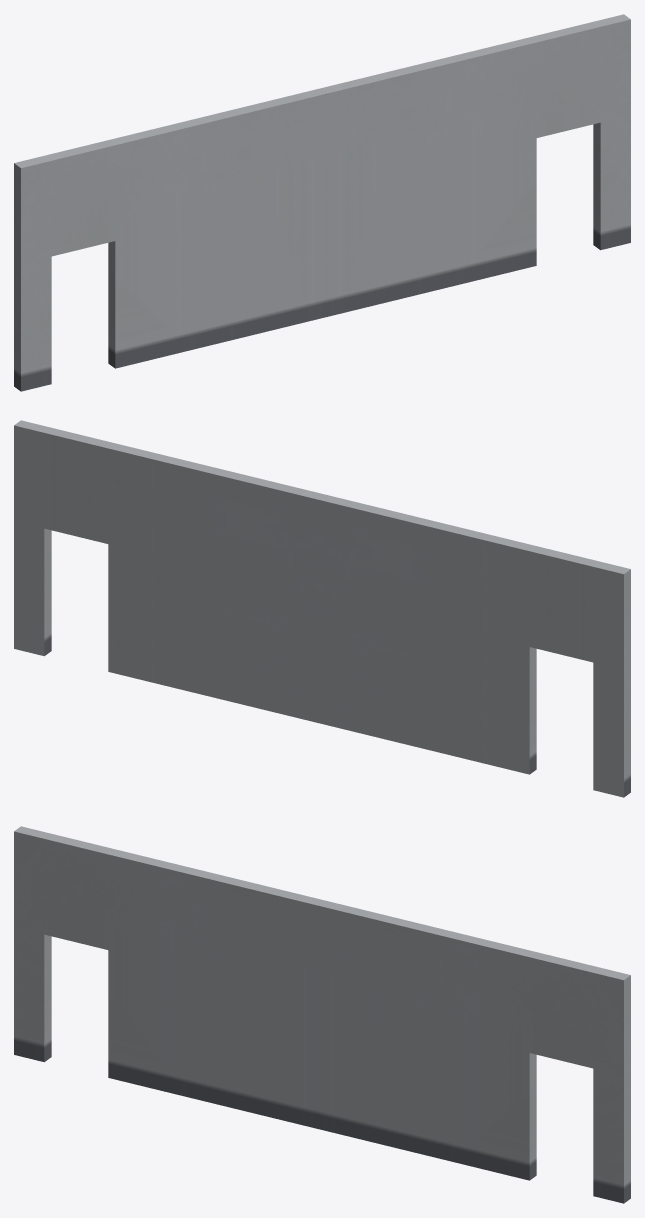
Rendered from BgMD_Tanihira_Wall_0201.fbx.
The picture shows the model from 3 angles, top to bottom: view 1: azimuth 30°, elevation 25°; view 2: azimuth 150°, elevation 25°; view 3: azimuth 330°, elevation 25°; orthographic projection.
Visible parts, largest first — view 1: roomw; view 2: roomw; view 3: roomw.
Boxes of the visible parts, bbox=[...] form: roomw: bbox=[14, 14, 630, 391]; roomw: bbox=[14, 420, 630, 797]; roomw: bbox=[14, 826, 630, 1203].
Size of the model in its own units: 1000 by 350 by 20.
